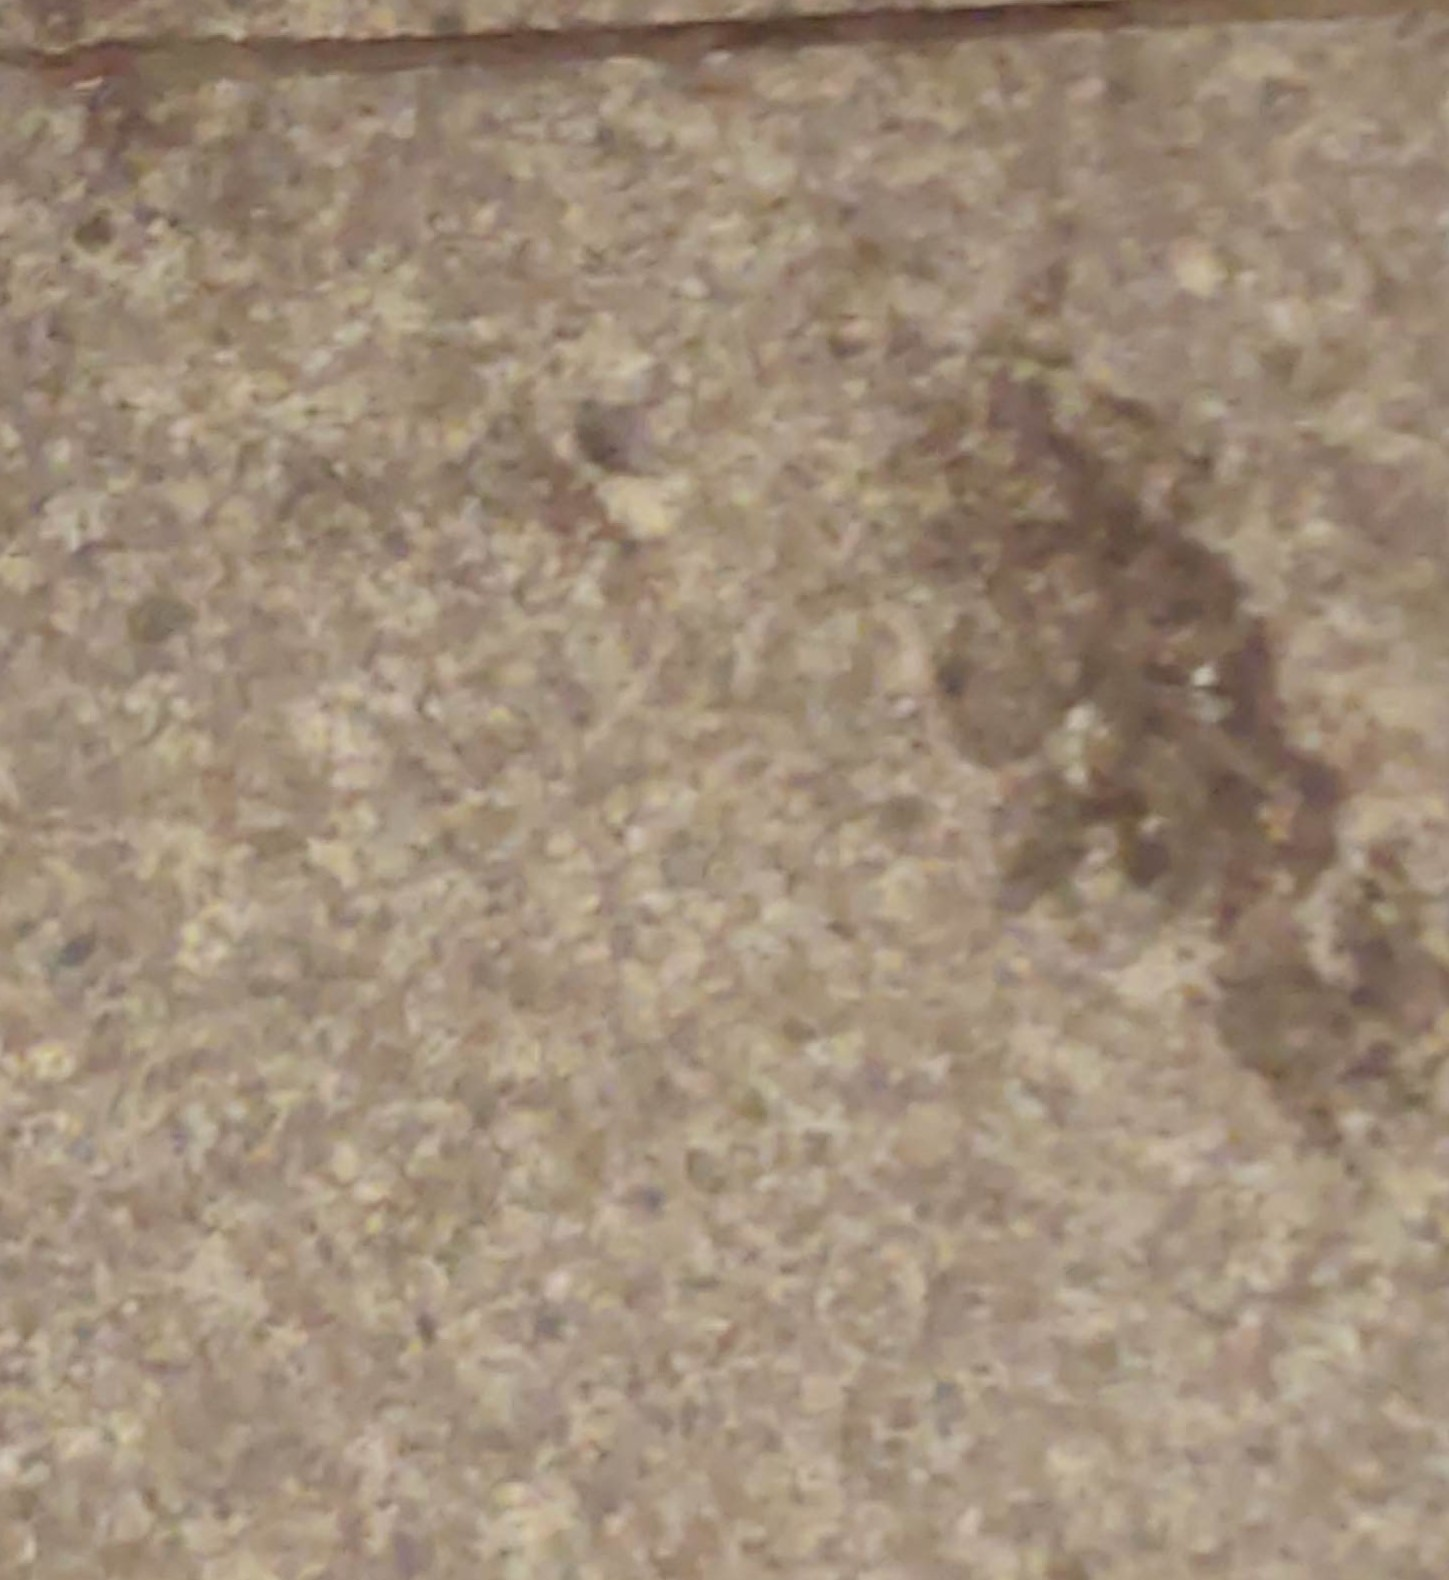grey spot: (883, 255, 1448, 1182)
